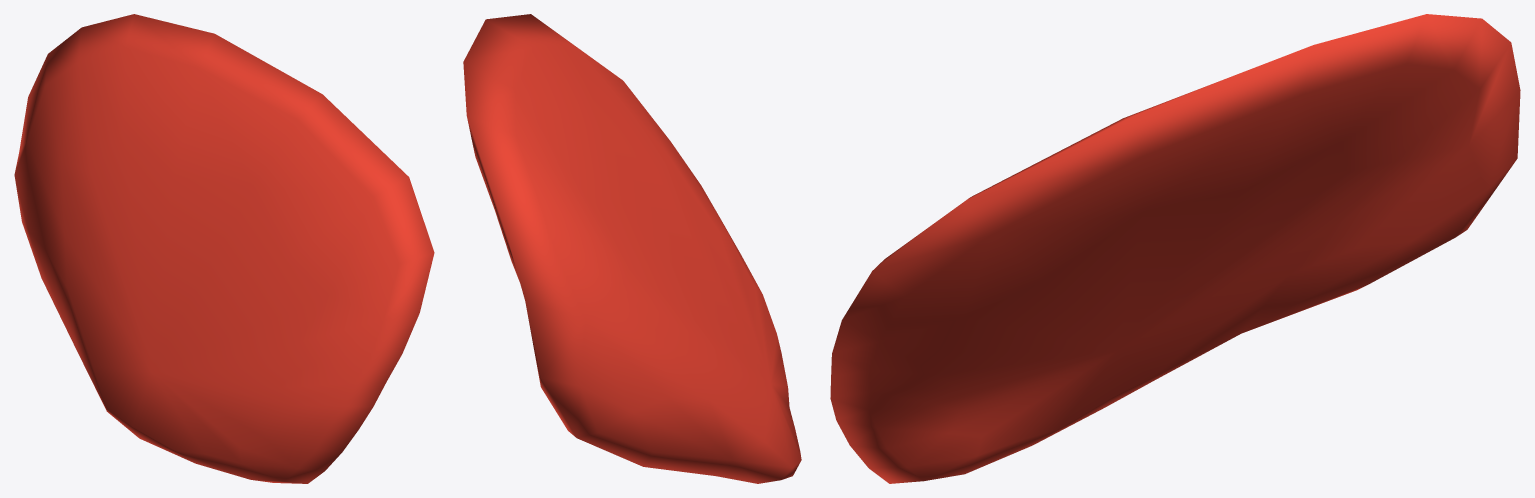
File: Adductor_hallucis_transverse_head_5th_metatarsal_001_right.glb
3 views of the same model, side by side, from view 1: azimuth 30°, elevation 25°; view 2: azimuth 150°, elevation 25°; view 3: azimuth 270°, elevation 25° (orthographic). The views are drawn at different scales.
Visible parts, largest first — view 1: Transverse_head_of_adductor_hallucis_on_5th_metatarsal_head_; view 2: Transverse_head_of_adductor_hallucis_on_5th_metatarsal_head_; view 3: Transverse_head_of_adductor_hallucis_on_5th_metatarsal_head_.
Part boxes in pixels (x1,y1,x2,y2): Transverse_head_of_adductor_hallucis_on_5th_metatarsal_head_: (14, 14, 434, 483); Transverse_head_of_adductor_hallucis_on_5th_metatarsal_head_: (463, 14, 801, 483); Transverse_head_of_adductor_hallucis_on_5th_metatarsal_head_: (830, 14, 1520, 483).
Bounding box in the file's own units: 0.00278 × 0.00368 × 0.00473.
